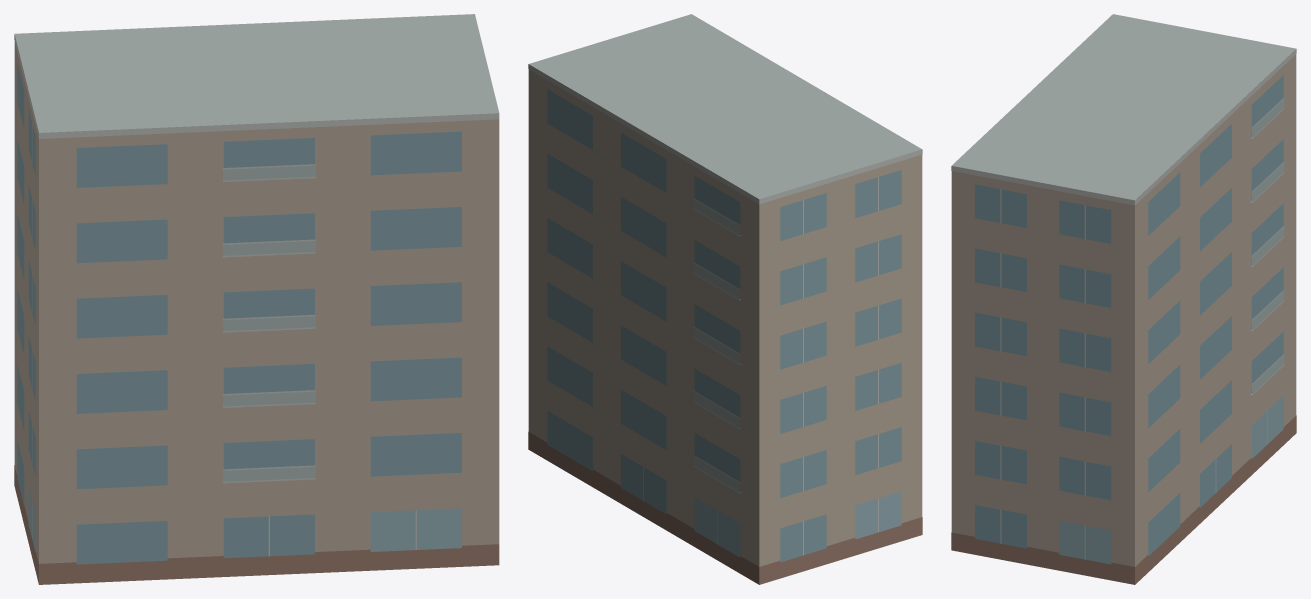
The model's file is survey-upis-32985305.glb.
The picture shows the model from 3 angles, left to right: view 1: azimuth 30°, elevation 25°; view 2: azimuth 150°, elevation 25°; view 3: azimuth 270°, elevation 25°; orthographic projection. The views are drawn at different scales.
Visible parts, largest first — view 1: survey-upis-32985305.tmp; view 2: survey-upis-32985305.tmp; view 3: survey-upis-32985305.tmp.
Boxes of the visible parts, bbox=[...] form: survey-upis-32985305.tmp: bbox=[14, 14, 499, 584]; survey-upis-32985305.tmp: bbox=[528, 14, 922, 584]; survey-upis-32985305.tmp: bbox=[951, 14, 1296, 584].
Bounding box in the file's own units: 19.03 × 18.3 × 14.89.
